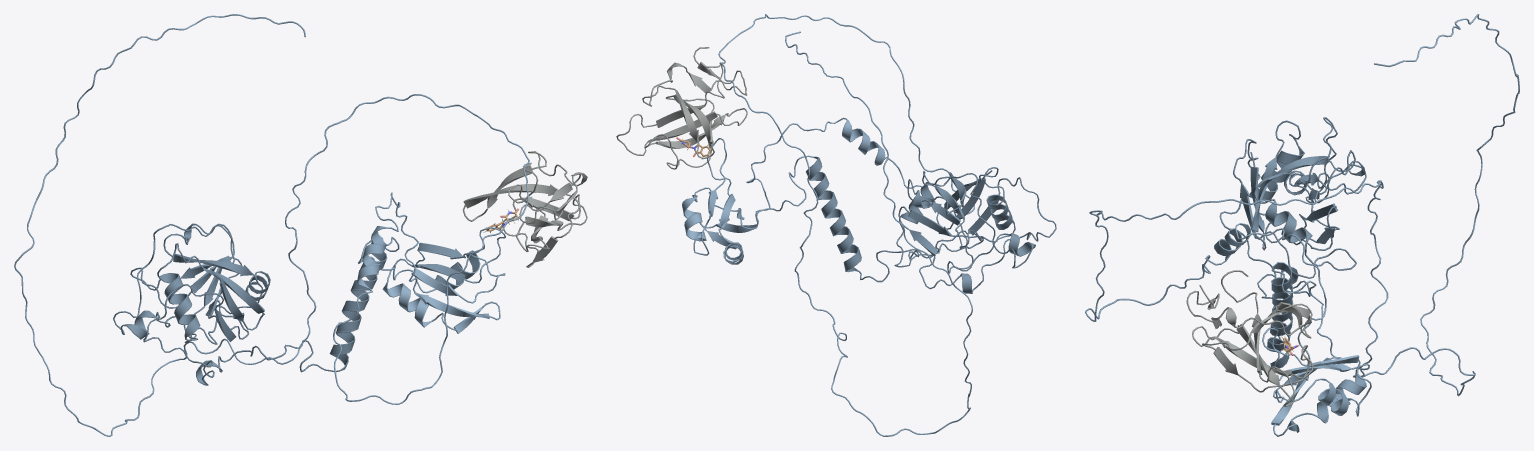
Rendered from negctrl_no_ppil4_arm.glb.
3 renders of one model, left to right at view 1: azimuth 30°, elevation 25°; view 2: azimuth 150°, elevation 25°; view 3: azimuth 270°, elevation 25°, orthographic. The views are drawn at different scales.
Visible parts, largest first — view 1: node-geom52, node-geom53; view 2: node-geom52, node-geom53; view 3: node-geom52, node-geom53.
Boxes of the visible parts, <box> form: node-geom52: <box>113,151,587,385</box>; node-geom53: <box>14,14,529,436</box>; node-geom52: <box>616,47,1056,293</box>; node-geom53: <box>682,14,974,436</box>; node-geom52: <box>1186,117,1366,406</box>; node-geom53: <box>1085,14,1519,436</box>.
Size of the model in its own units: 136 by 105 by 102.
